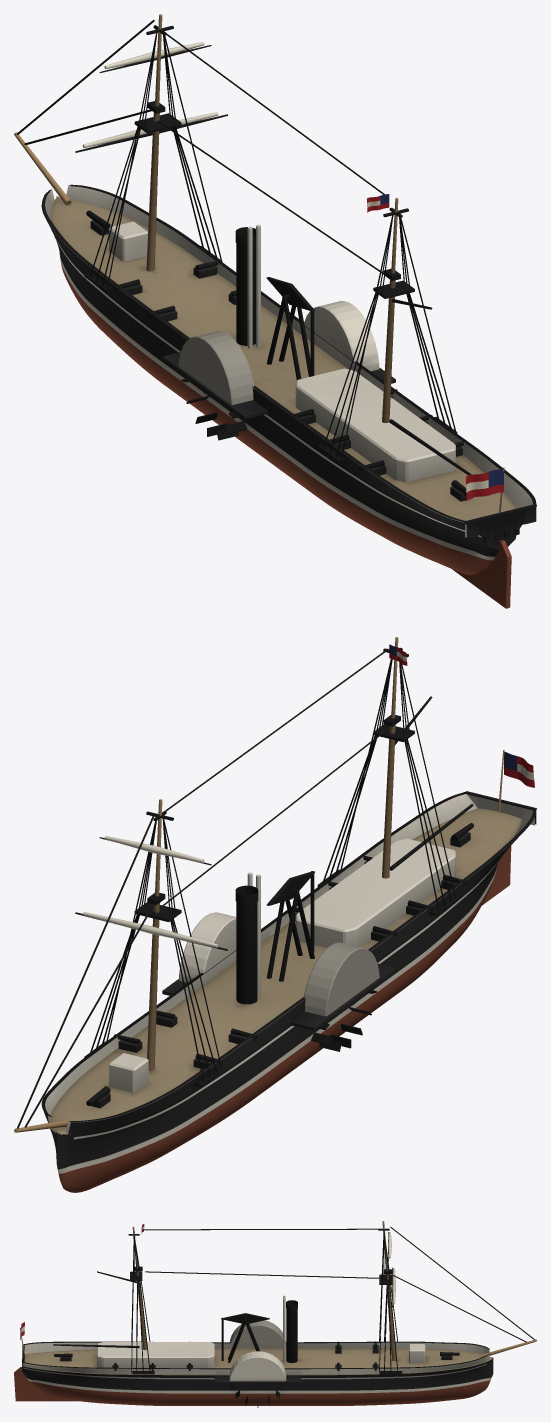
The model's file is css-patrick-henry.glb.
3 views of the same model, one above another, from view 1: azimuth 30°, elevation 25°; view 2: azimuth 150°, elevation 25°; view 3: azimuth 270°, elevation 25° (orthographic). The views are drawn at different scales.
Parts seen in each view (by area): view 1: css-patrick-henry; view 2: css-patrick-henry; view 3: css-patrick-henry.
Part boxes in pixels (<box>): css-patrick-henry: <box>14,14,536,608</box>; css-patrick-henry: <box>14,637,536,1192</box>; css-patrick-henry: <box>14,1221,536,1407</box>.
Size of the model in its own units: 15 by 32.01 by 84.45.
